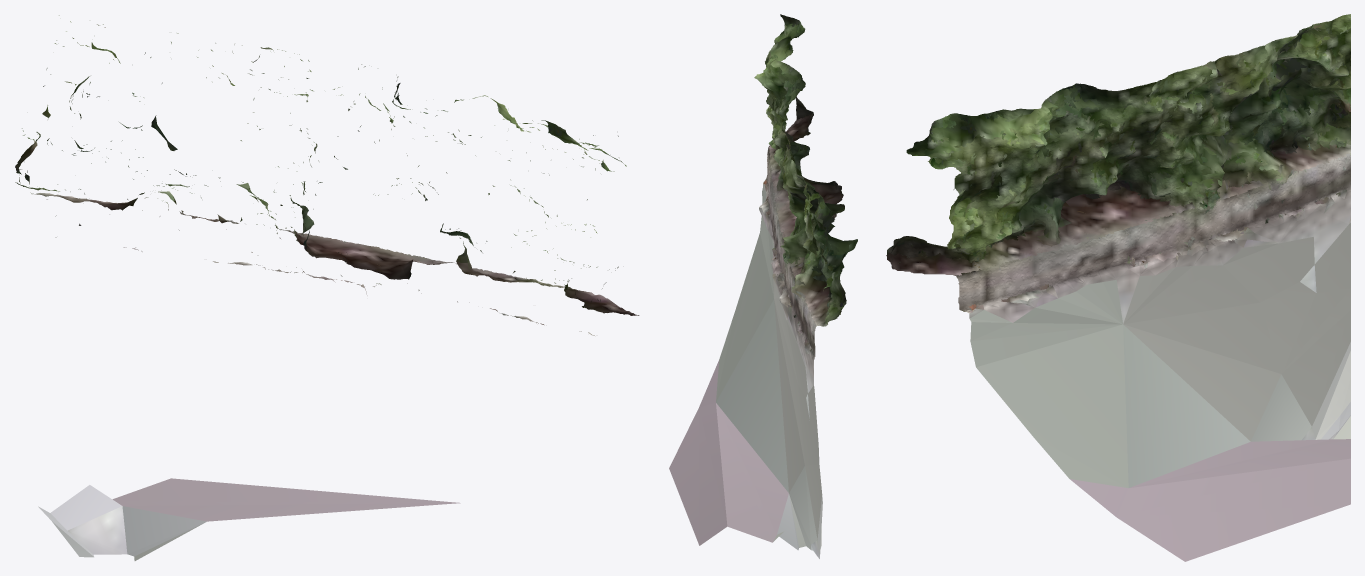
3 views of the same model, side by side, from view 1: azimuth 30°, elevation 25°; view 2: azimuth 150°, elevation 25°; view 3: azimuth 270°, elevation 25° (orthographic). The views are drawn at different scales.
Bounding box in the file's own units: 0.6733 × 0.983 × 0.9657.
Materials: 1 (1 with a texture image).
